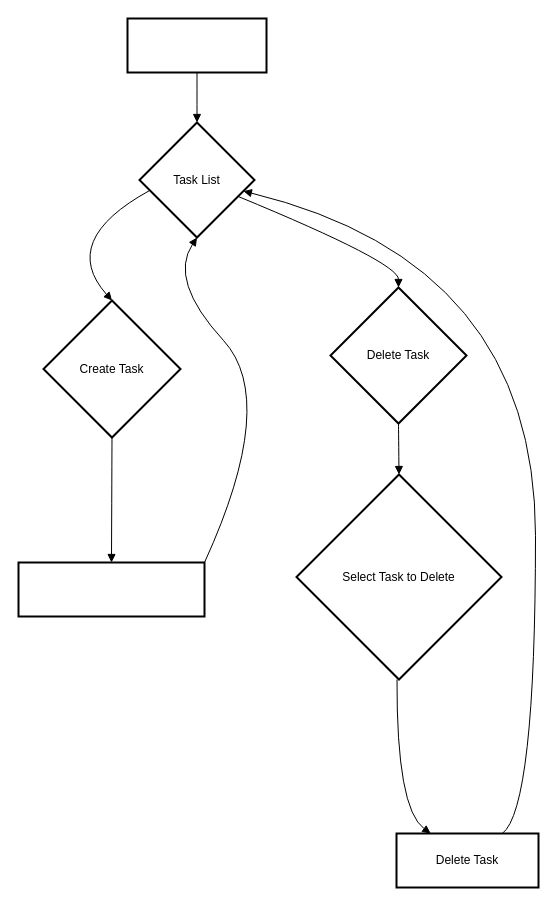
This 556x905 diagram has some shape labels left out. The centre of each missing label's shape, as x and y in pixels:
Home Page: (196,45)
Input Task Details: (111,589)
